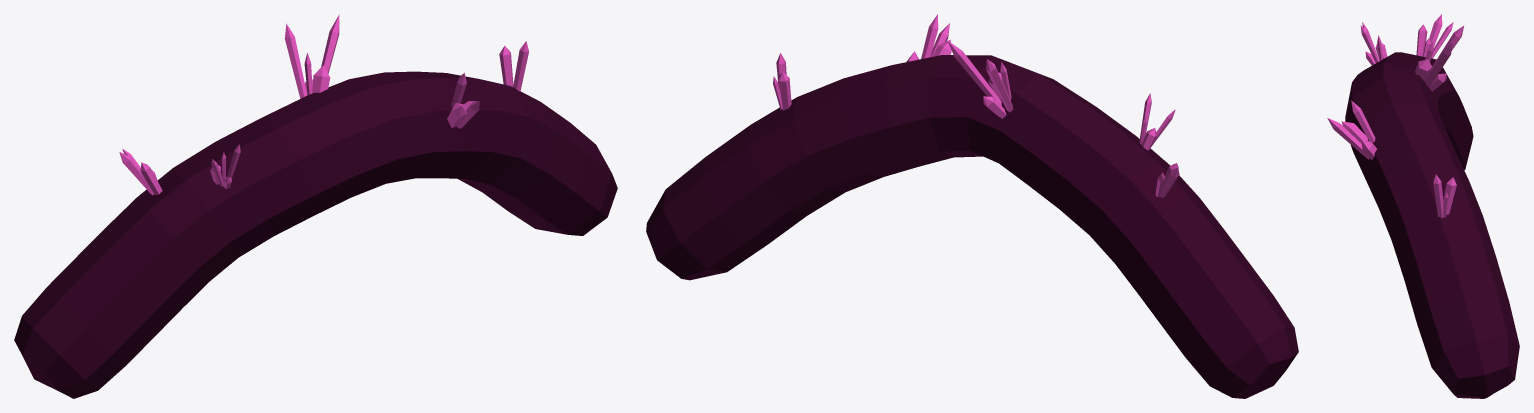
Rendered from roots_5.fbx.
The picture shows the model from 3 angles, left to right: view 1: azimuth 30°, elevation 25°; view 2: azimuth 150°, elevation 25°; view 3: azimuth 270°, elevation 25°; orthographic projection. The views are drawn at different scales.
Visible parts, largest first — view 1: roots_5; view 2: roots_5; view 3: roots_5.
Part boxes in pixels (<box>): roots_5: <box>14,14,617,398</box>; roots_5: <box>646,14,1298,398</box>; roots_5: <box>1327,14,1519,398</box>.
Size of the model in its own units: 300 by 139 by 92.67.
